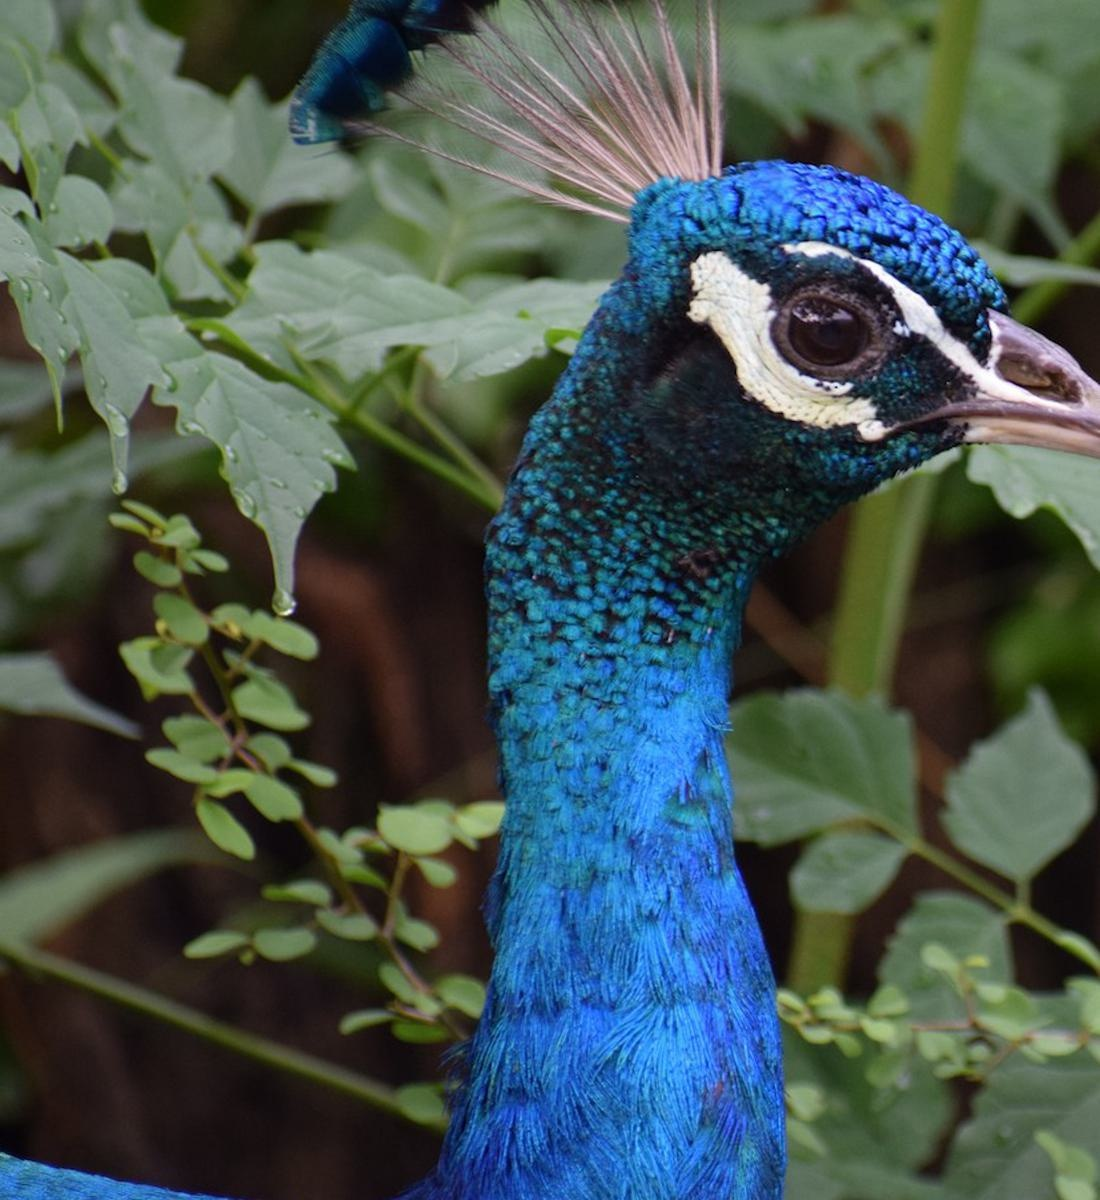peacock: (324, 37, 993, 1200)
